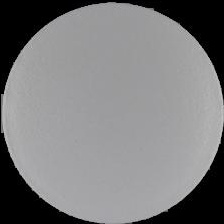68382-140: (0, 0, 224, 224)
